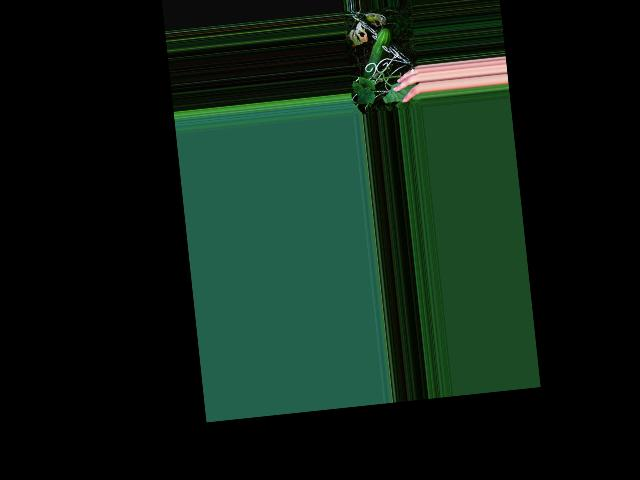cucumber: (358, 27, 396, 79)
